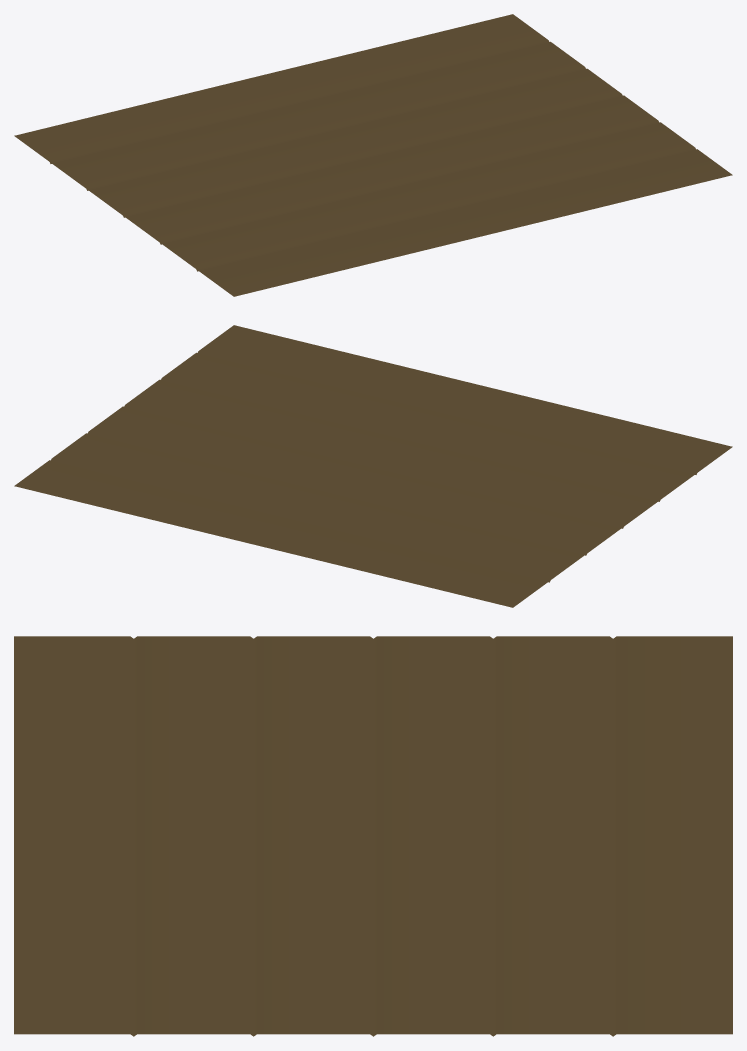
The model's file is MapTable_a01.fbx.
3 renders of one model, top to bottom at view 1: azimuth 30°, elevation 25°; view 2: azimuth 150°, elevation 25°; view 3: azimuth 270°, elevation 25°, orthographic. The views are drawn at different scales.
Parts seen in each view (by area): view 1: Table_a01; view 2: Table_a01; view 3: Table_a01.
Boxes of the visible parts, left/top/right/bottom form: Table_a01: left=14, top=14, right=732, bottom=296; Table_a01: left=14, top=325, right=732, bottom=607; Table_a01: left=14, top=636, right=732, bottom=1036.
Bounding box in the file's own units: 94.99 × 0.2864 × 72.53.
